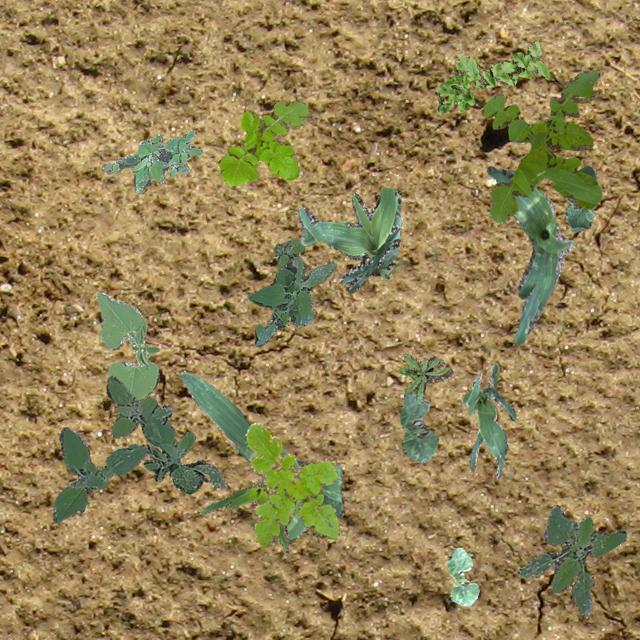crop: (178, 370, 344, 542), (486, 165, 574, 344), (296, 186, 401, 292), (198, 473, 290, 552), (95, 290, 158, 398), (460, 362, 514, 478), (398, 391, 438, 462), (564, 166, 596, 232), (446, 546, 478, 606)
weed: (52, 374, 226, 522), (480, 70, 600, 222), (516, 504, 626, 616), (244, 422, 338, 546), (246, 238, 334, 346), (434, 40, 550, 112), (218, 100, 308, 184), (100, 128, 202, 192), (396, 352, 452, 402)
